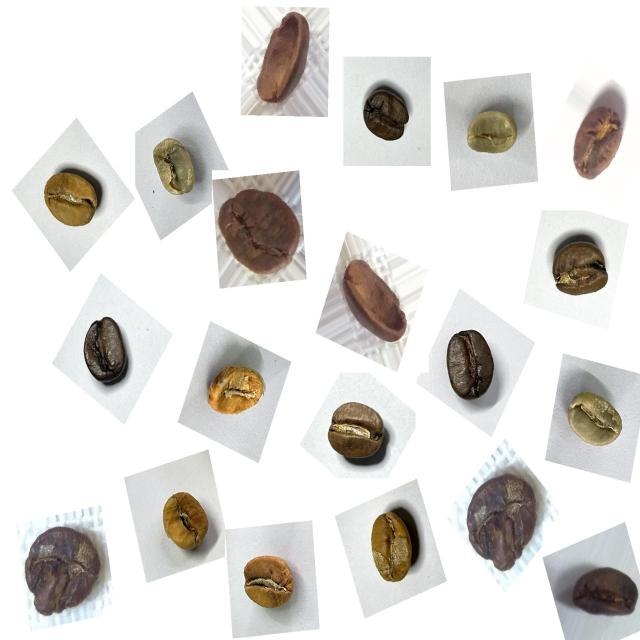bad: (454, 460, 549, 586), (11, 511, 111, 628), (212, 177, 310, 290), (247, 4, 318, 115), (339, 256, 412, 356), (563, 86, 631, 188), (565, 548, 640, 630)
dark: (433, 318, 504, 410), (71, 304, 139, 395)
green: (557, 379, 634, 462), (457, 95, 527, 170), (140, 129, 206, 208)
light: (354, 496, 426, 596), (34, 158, 109, 244), (152, 479, 222, 564), (198, 349, 272, 428), (236, 542, 306, 625)
medium: (319, 389, 398, 473), (542, 227, 618, 312), (355, 80, 419, 154)
